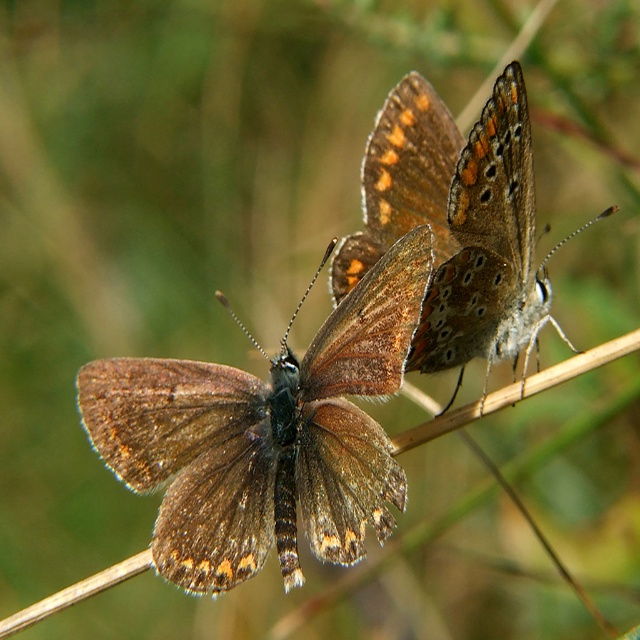Butterfly: (77, 217, 434, 596), (384, 60, 595, 407)
